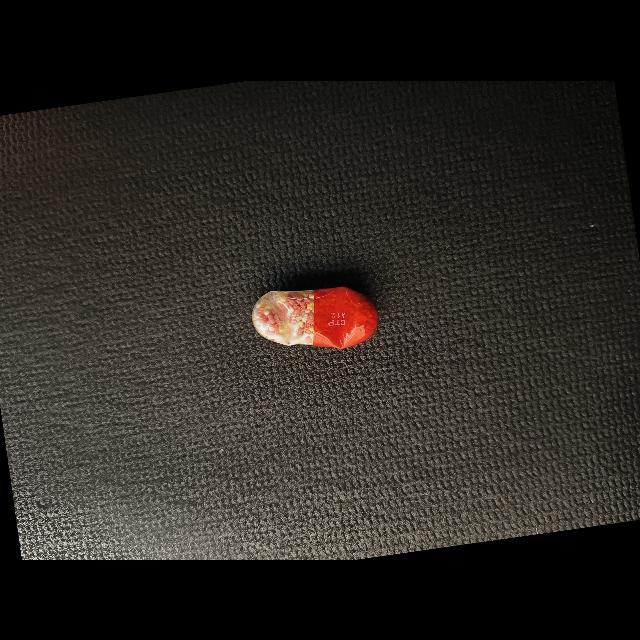Defective Capsule: (252, 286, 379, 349)
